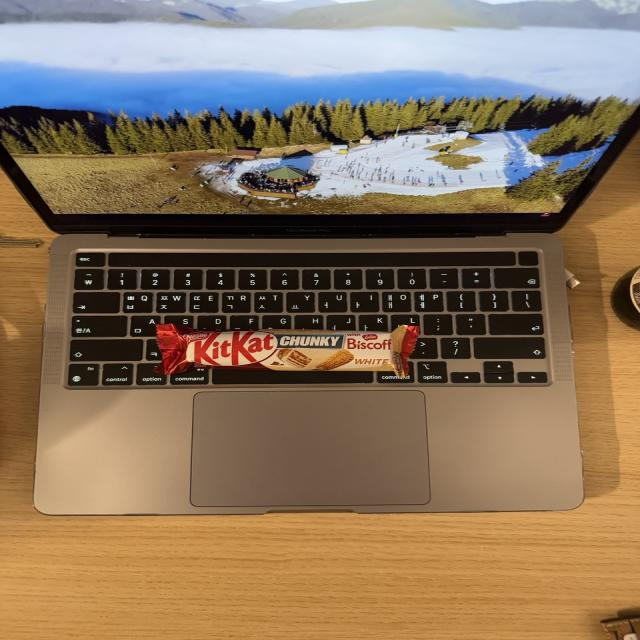chocolate: (152, 321, 424, 382)
